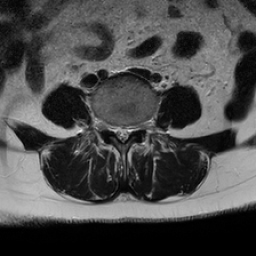CCS_normal: (118, 115, 125, 150)
LFS_normal: (132, 112, 140, 139)
LLS_normal: (125, 116, 132, 146)
RFS_normal: (104, 113, 112, 138)
RLS_normal: (112, 115, 118, 145)
